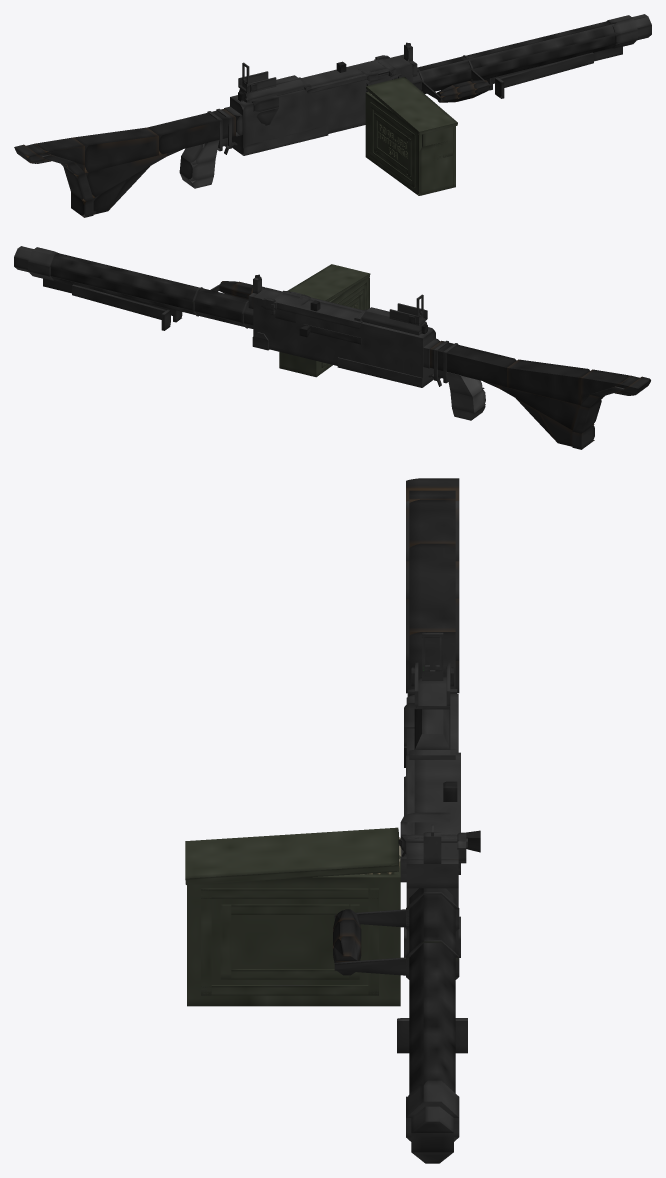
3 views of the same model, one above another, from view 1: azimuth 30°, elevation 25°; view 2: azimuth 150°, elevation 25°; view 3: azimuth 270°, elevation 25° (orthographic). The views are drawn at different scales.
Visible parts, largest first — view 1: gunModel0, gunModel57, ammoModel5, gunModel21, gunModel20, ammoModel1, gunModel47, ammoModel0, gunModel22, gunModel94, gunModel1, gunModel2 (+12 smaller); view 2: gunModel0, gunModel57, gunModel21, gunModel20, gunModel47, ammoModel5, gunModel2, gunModel22, gunModel95, gunModel1, gunModel48, gunModel24 (+10 smaller); view 3: ammoModel2, ammoModel5, gunModel57, gunModel21, gunModel2, gunModel24, ammoModel314, ammoModel316, gunModel0, gunModel20, gunModel40, gunModel73 (+6 smaller).
Boxes of the visible parts, <box> form: gunModel0: <box>230,55,412,154</box>; gunModel57: <box>412,21,618,83</box>; ammoModel5: <box>366,77,457,134</box>; gunModel21: <box>74,127,158,173</box>; gunModel20: <box>148,108,235,155</box>; ammoModel1: <box>365,92,421,195</box>; gunModel47: <box>413,34,620,91</box>; ammoModel0: <box>418,141,453,195</box>; gunModel22: <box>77,153,166,198</box>; gunModel94: <box>499,52,593,87</box>; gunModel1: <box>232,125,328,155</box>; gunModel2: <box>301,59,389,86</box>; gunModel0: <box>253,287,435,386</box>; gunModel57: <box>51,253,253,315</box>; gunModel21: <box>507,359,589,405</box>; gunModel20: <box>430,340,516,387</box>; gunModel47: <box>50,266,253,325</box>; ammoModel5: <box>287,264,370,301</box>; gunModel2: <box>275,293,363,328</box>; gunModel22: <box>499,385,580,430</box>; gunModel95: <box>72,284,166,319</box>; gunModel1: <box>337,357,433,387</box>; gunModel48: <box>51,276,253,328</box>; gunModel24: <box>581,369,630,396</box>; ammoModel2: <box>187,874,400,1006</box>; ammoModel5: <box>185,827,398,884</box>; gunModel57: <box>409,888,455,1093</box>; gunModel21: <box>409,543,455,635</box>; gunModel2: <box>414,752,460,838</box>; gunModel24: <box>409,499,455,547</box>; ammoModel314: <box>201,888,378,898</box>; ammoModel316: <box>201,985,378,995</box>; gunModel0: <box>406,694,458,954</box>; gunModel20: <box>409,632,455,696</box>; gunModel40: <box>414,709,450,749</box>; gunModel73: <box>406,859,458,888</box>.
Bounding box in the file's own units: 40.6 × 7.05 × 8.29.
